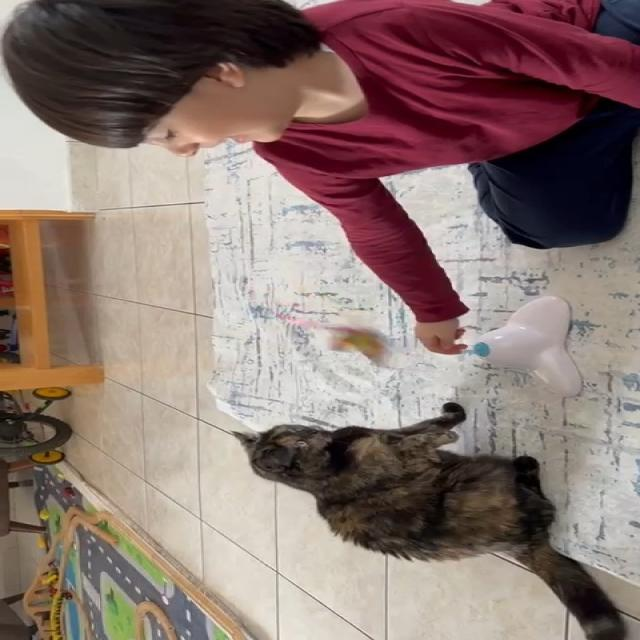authorized: (229, 402, 627, 639)
